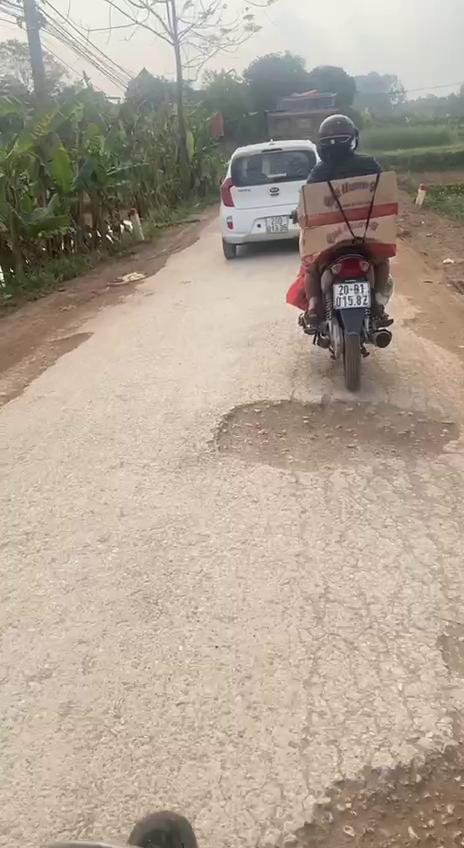pothole: (281, 719, 464, 848), (208, 393, 462, 472), (0, 329, 96, 407)
